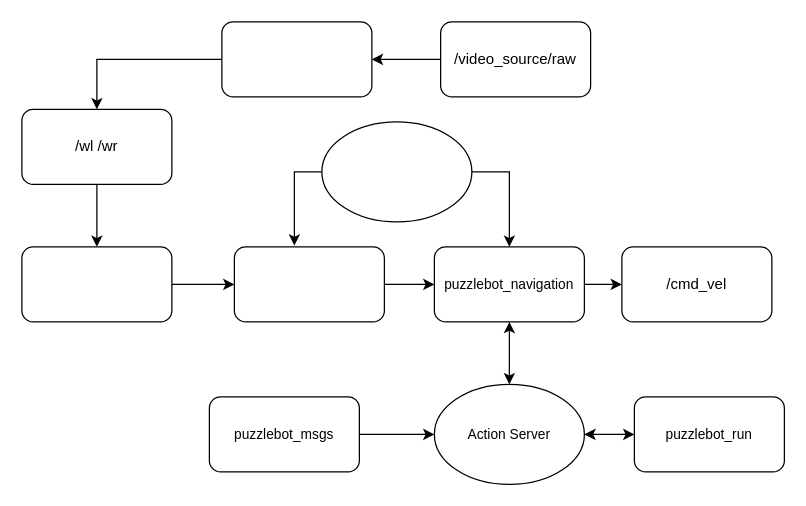
This 806x506 diagram has some shape labels left out. The centre of each missing label's shape, as x and y in pixels:
/Pose2D: [308,284]
puzzlebot_navigation.yaml: [396,171]
puzzlebot_odometry: [96,284]
puzzlebot_vision: [296,59]
